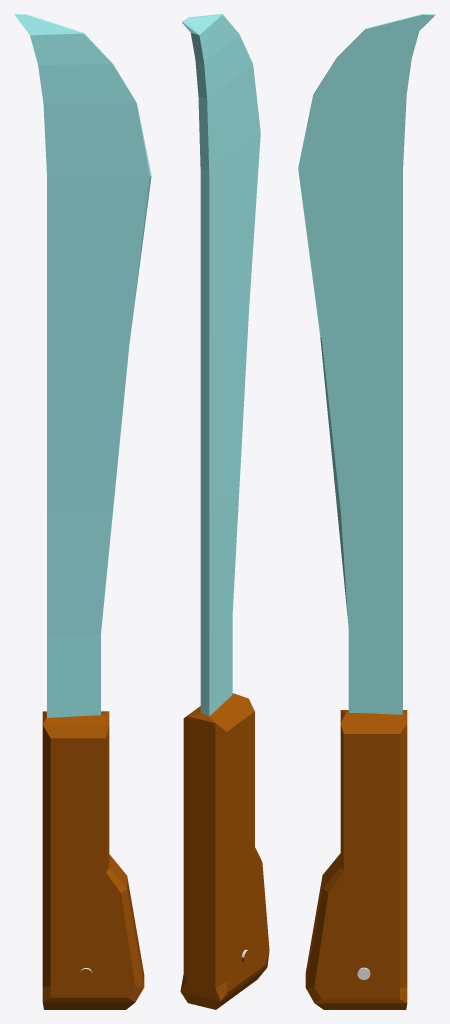
File: machete_textured.fbx
3 renders of one model, left to right at view 1: azimuth 90°, elevation 25°; view 2: azimuth 150°, elevation 25°; view 3: azimuth 270°, elevation 25°, orthographic.
Visible parts, largest first — view 1: Cylinder; view 2: Cylinder; view 3: Cylinder.
Part boxes in pixels (x1,y1,x2,y2): Cylinder: [14, 14, 151, 1009]; Cylinder: [180, 14, 269, 1009]; Cylinder: [298, 14, 435, 1009].
Bounding box in the file's own units: 203 × 4078 × 514.
